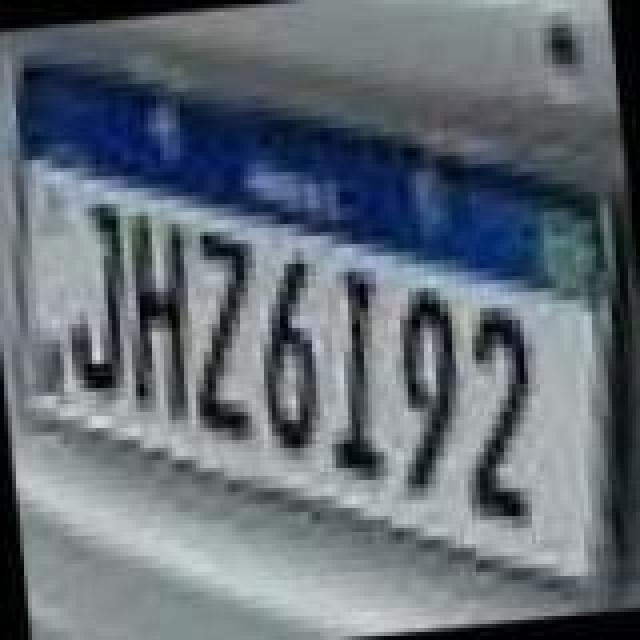2: (448, 306, 548, 534)
6: (248, 256, 328, 456)
9: (384, 286, 476, 502)
H: (114, 206, 206, 430)
I: (312, 266, 392, 486)
J: (52, 198, 140, 402)
Z: (176, 226, 272, 450)
